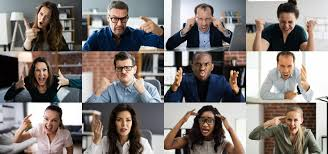Angry: (193, 60, 210, 78), (114, 63, 134, 78), (196, 14, 212, 31), (279, 62, 293, 77), (34, 67, 47, 82), (38, 10, 50, 26)
